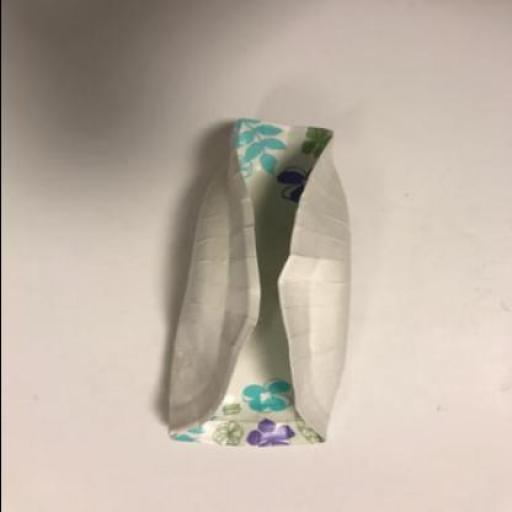paper: (164, 119, 348, 451)
